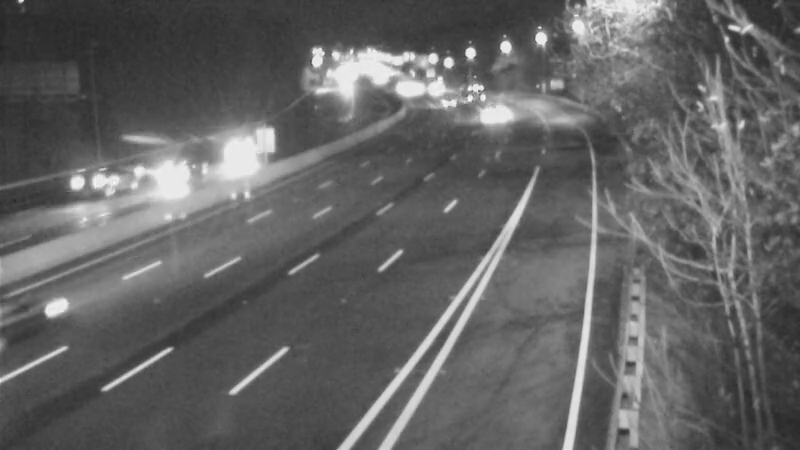vehicle: (1, 265, 93, 375), (42, 147, 122, 227), (128, 139, 208, 219), (203, 113, 283, 193), (408, 66, 458, 116), (451, 64, 501, 114), (422, 79, 472, 129), (469, 95, 519, 145)
